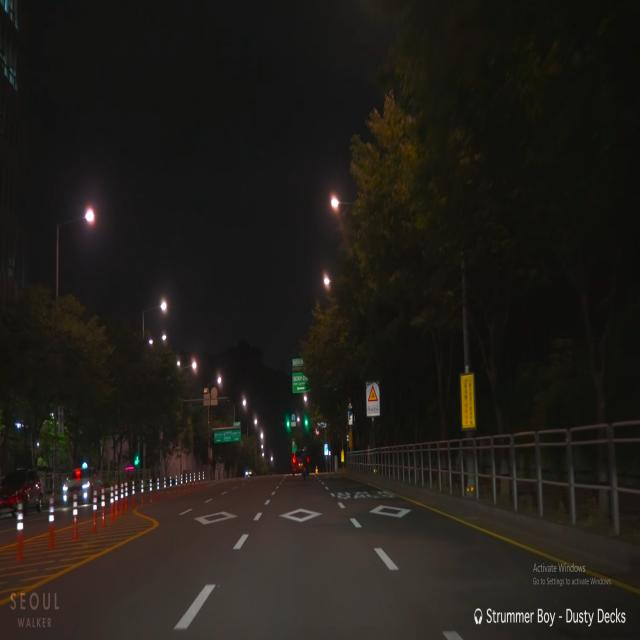headlights: (60, 479, 91, 500)
